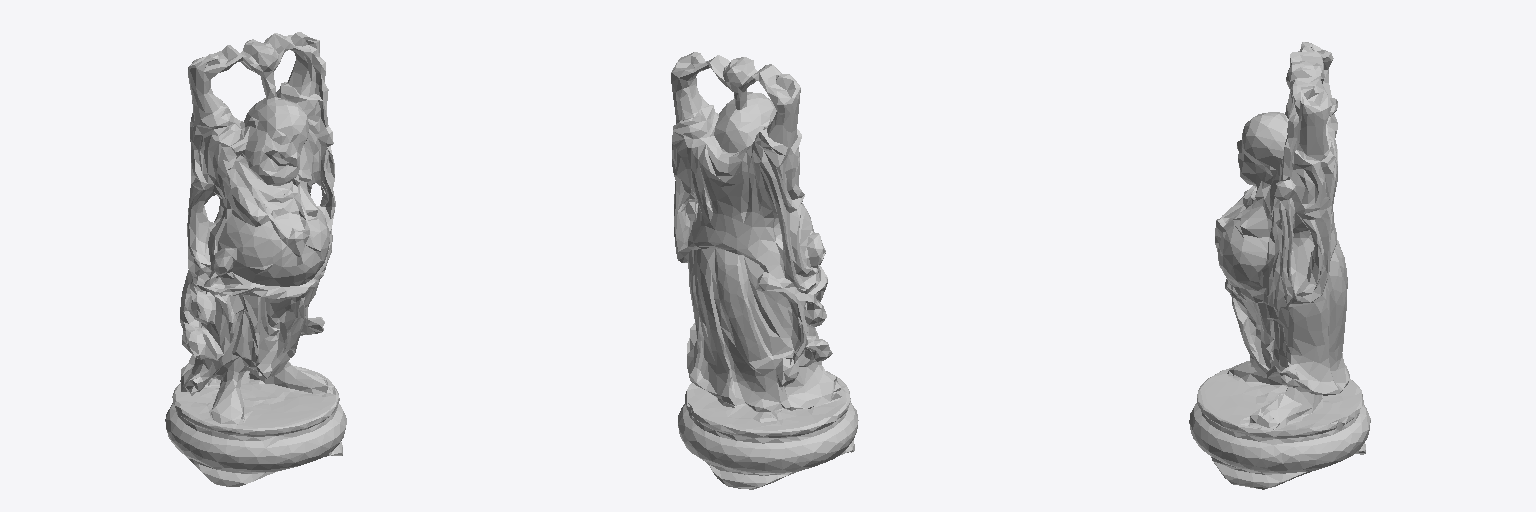
The model's file is buddha_low_low.obj.
The picture shows the model from 3 angles: view 1: azimuth 30°, elevation 25°; view 2: azimuth 150°, elevation 25°; view 3: azimuth 270°, elevation 25°; orthographic projection.
Parts seen in each view (by area): view 1: buddha_low; view 2: buddha_low; view 3: buddha_low.
Part boxes in pixels (left/top/right/bottom): buddha_low: left=165, top=32, right=346, bottom=486; buddha_low: left=671, top=52, right=858, bottom=489; buddha_low: left=1189, top=42, right=1370, bottom=489.
Size of the model in its own units: 41.08 by 99.96 by 41.21.